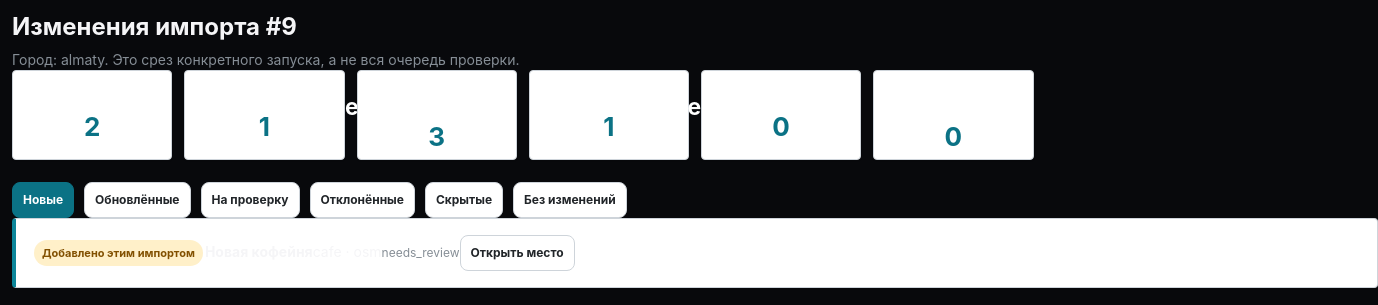
Test: AdminImportJobChangesPage › switches tabs and handles rejected without place_new
The width and height of the screenshot is (1378, 305).
Expected: the text "Новая кофейня" is shown, [205,243,313,260]
Click the text "На проверку".
click(437, 107)  # box [381,83,492,131]
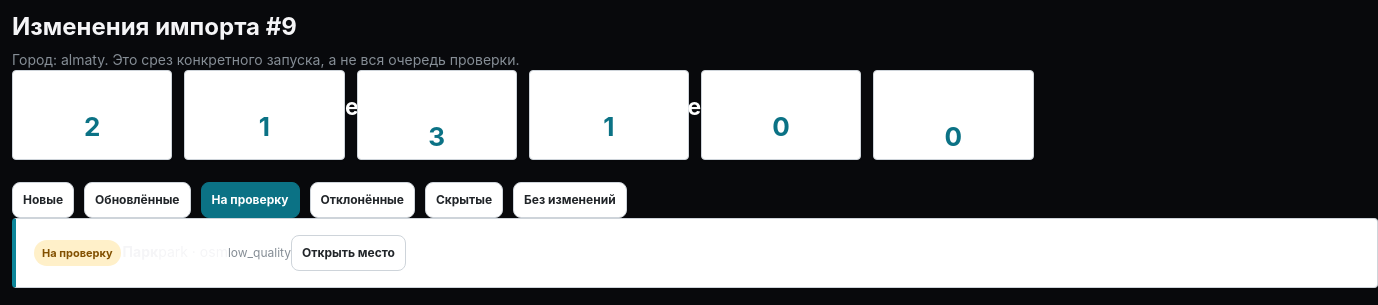
Expected: the text "Парк" is shown, [123,243,158,260]
Click the text "Отклонённые".
click(609, 107)  # box [542,97,676,117]
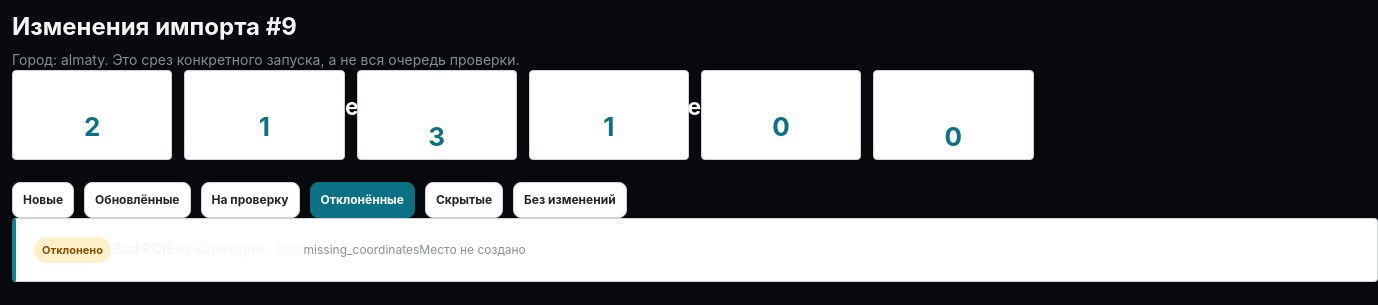
Expected: the text "Bad POI" is shown, [113,240,166,257]
Expected: the text "Место не создано" is shown, [419,242,526,257]
